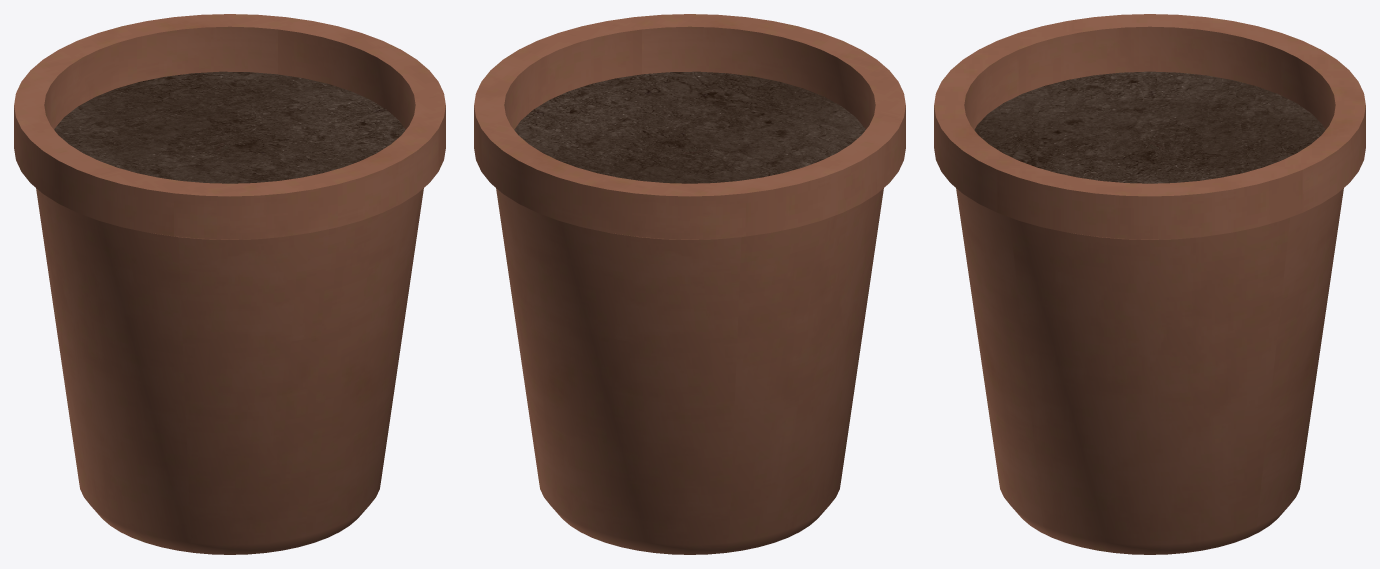
File: maceta_terracota_50.glb
3 renders of one model, left to right at view 1: azimuth 30°, elevation 25°; view 2: azimuth 150°, elevation 25°; view 3: azimuth 270°, elevation 25°, orthographic.
Visible parts, largest first — view 1: maceta_terracota_50; view 2: maceta_terracota_50; view 3: maceta_terracota_50.
Boxes of the visible parts, <box> form: maceta_terracota_50: <box>14,14,445,554</box>; maceta_terracota_50: <box>474,14,905,554</box>; maceta_terracota_50: <box>934,14,1365,554</box>.
Size of the model in its own units: 0.5 by 0.5 by 0.5.
Materials: 2 (2 with a texture image).
